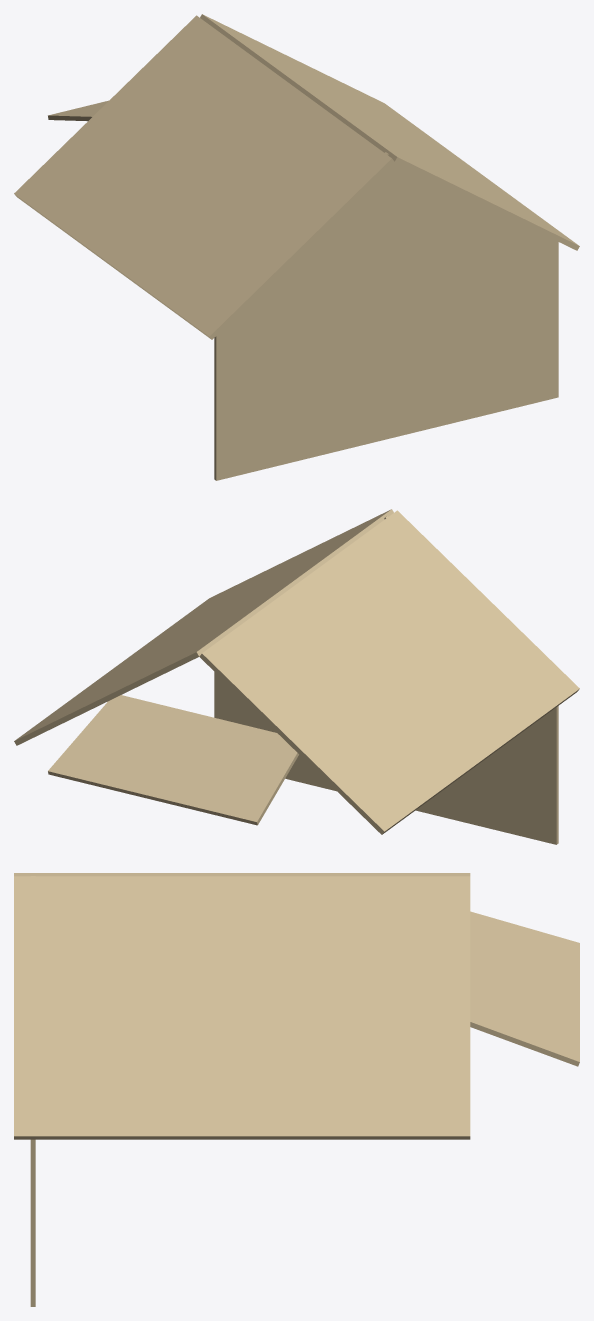
The model's file is 中等帐篷_手游_远.glb.
The picture shows the model from 3 angles, top to bottom: view 1: azimuth 30°, elevation 25°; view 2: azimuth 150°, elevation 25°; view 3: azimuth 270°, elevation 25°; orthographic projection. The views are drawn at different scales.
Parts seen in each view (by area): view 1: TN2-主体; view 2: TN2-主体; view 3: TN2-主体.
Part boxes in pixels (box(x1,y1,x2,y2)): TN2-主体: box(14, 14, 579, 480); TN2-主体: box(14, 509, 579, 844); TN2-主体: box(14, 873, 579, 1306).
Size of the model in its own units: 3.9 by 2.88 by 4.41.
1 material, 1 textured.
